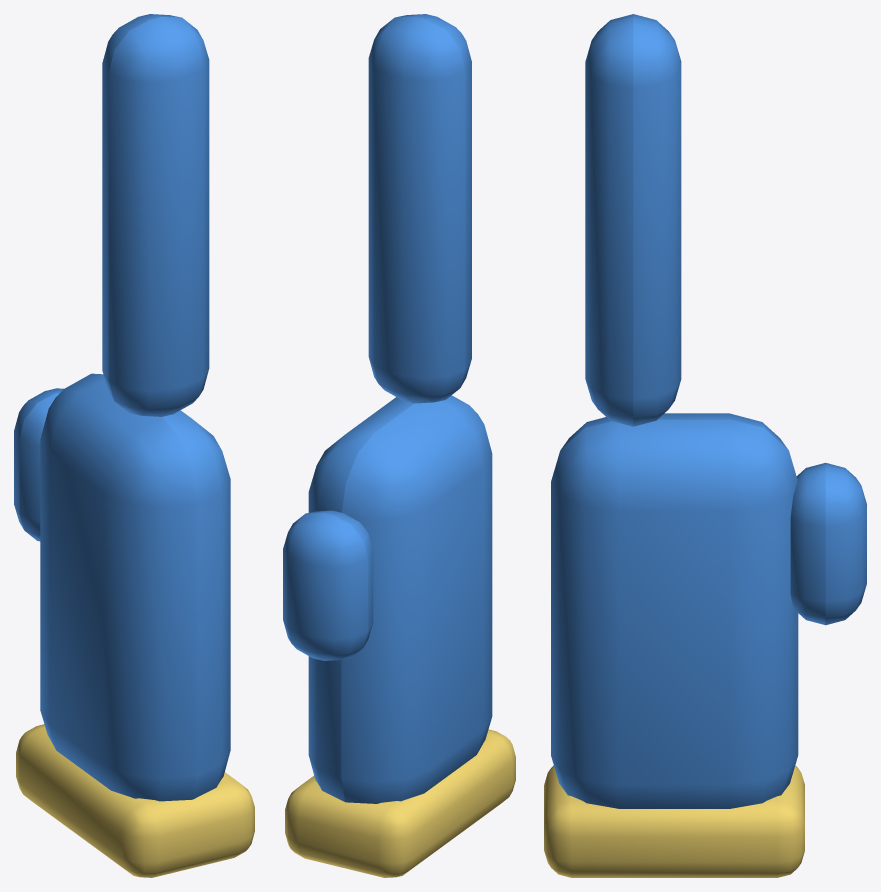
The model's file is finger.glb.
3 renders of one model, left to right at view 1: azimuth 30°, elevation 25°; view 2: azimuth 150°, elevation 25°; view 3: azimuth 270°, elevation 25°, orthographic. The views are drawn at different scales.
Visible parts, largest first — view 1: mitt, finger, cuff, thumb; view 2: mitt, finger, cuff, thumb; view 3: mitt, finger, cuff, thumb.
Part boxes in pixels (x1,y1,x2,y2): mitt: (40, 373, 230, 801); finger: (102, 14, 209, 416); cuff: (16, 724, 254, 877); thumb: (14, 388, 63, 541); mitt: (308, 395, 492, 803); finger: (368, 14, 471, 403); cuff: (285, 729, 515, 877); thumb: (283, 510, 373, 660); mitt: (551, 413, 798, 808); finger: (585, 14, 681, 426); cuff: (544, 765, 804, 877); thumb: (790, 462, 866, 625).
Size of the model in its own units: 0.11 by 0.67 by 0.235.
